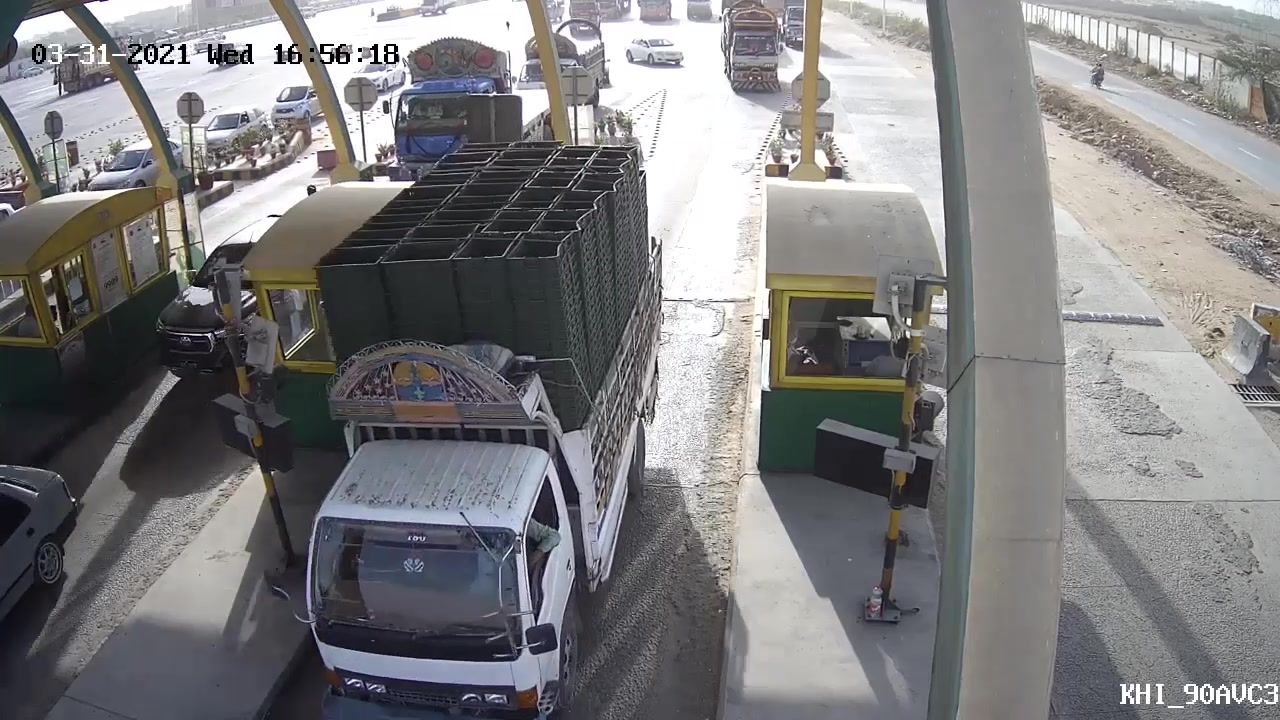F5: (290, 143, 665, 711)
